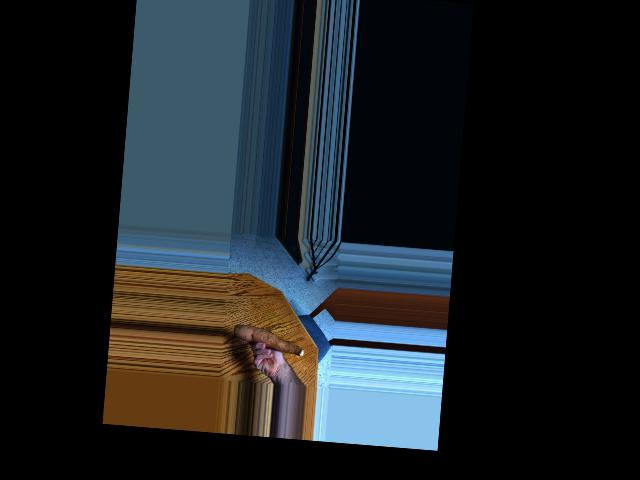sweet_potato: (233, 321, 306, 359)
